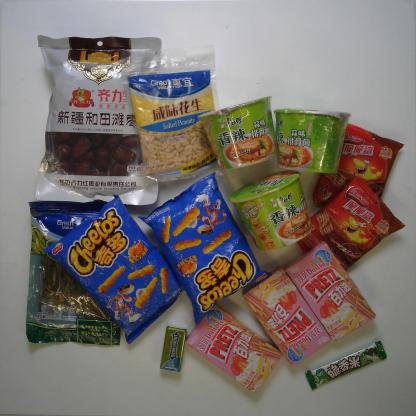Chocolate: (304, 341, 386, 392)
Dessert: (290, 177, 405, 280), (284, 240, 378, 341), (184, 304, 283, 395), (243, 267, 332, 361), (313, 122, 404, 212)
Dried Food: (35, 35, 161, 206), (25, 199, 123, 348)
Dried Fruit: (117, 54, 223, 184)
Gum: (160, 326, 187, 376)
Instant Noodles: (230, 169, 312, 250), (200, 96, 276, 173), (272, 106, 351, 174)
Puffed Food: (46, 191, 184, 345), (136, 171, 272, 326)
